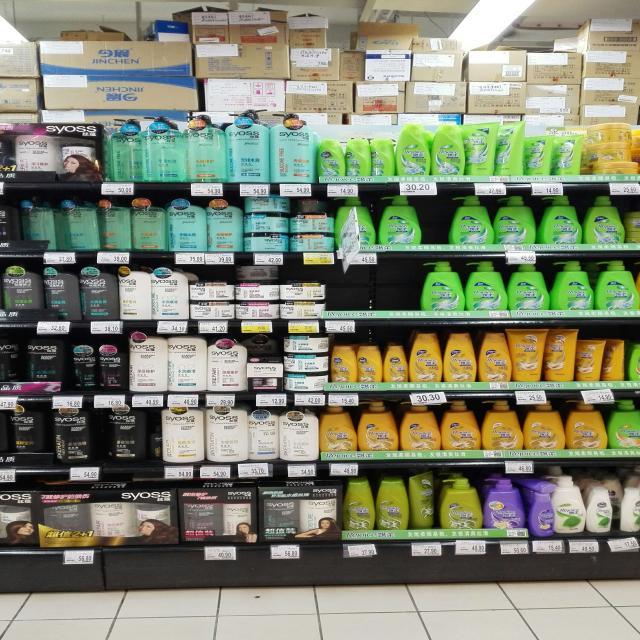void: (376, 257, 414, 318), (330, 259, 365, 323)
